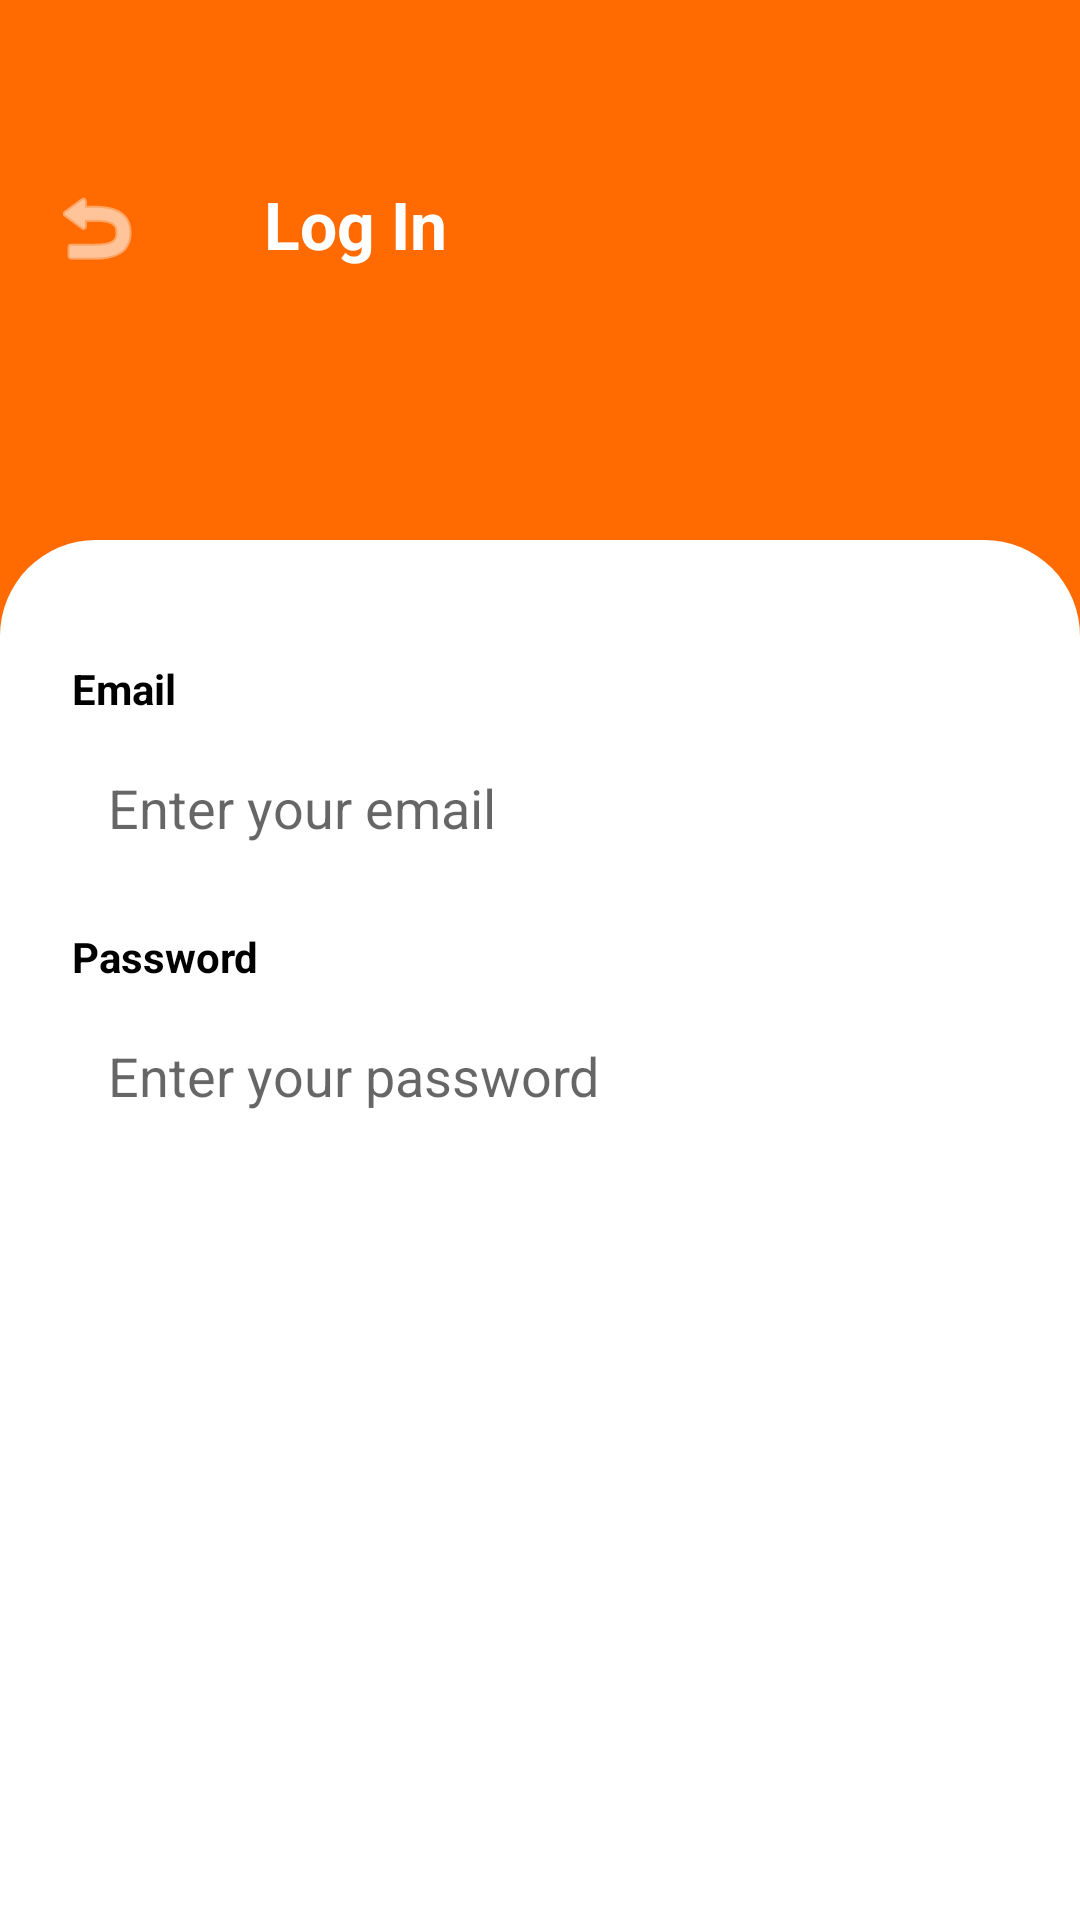

Where to tap for icons on this 1080×1920 app screen, as [x,y]:
revert: [97,228]
